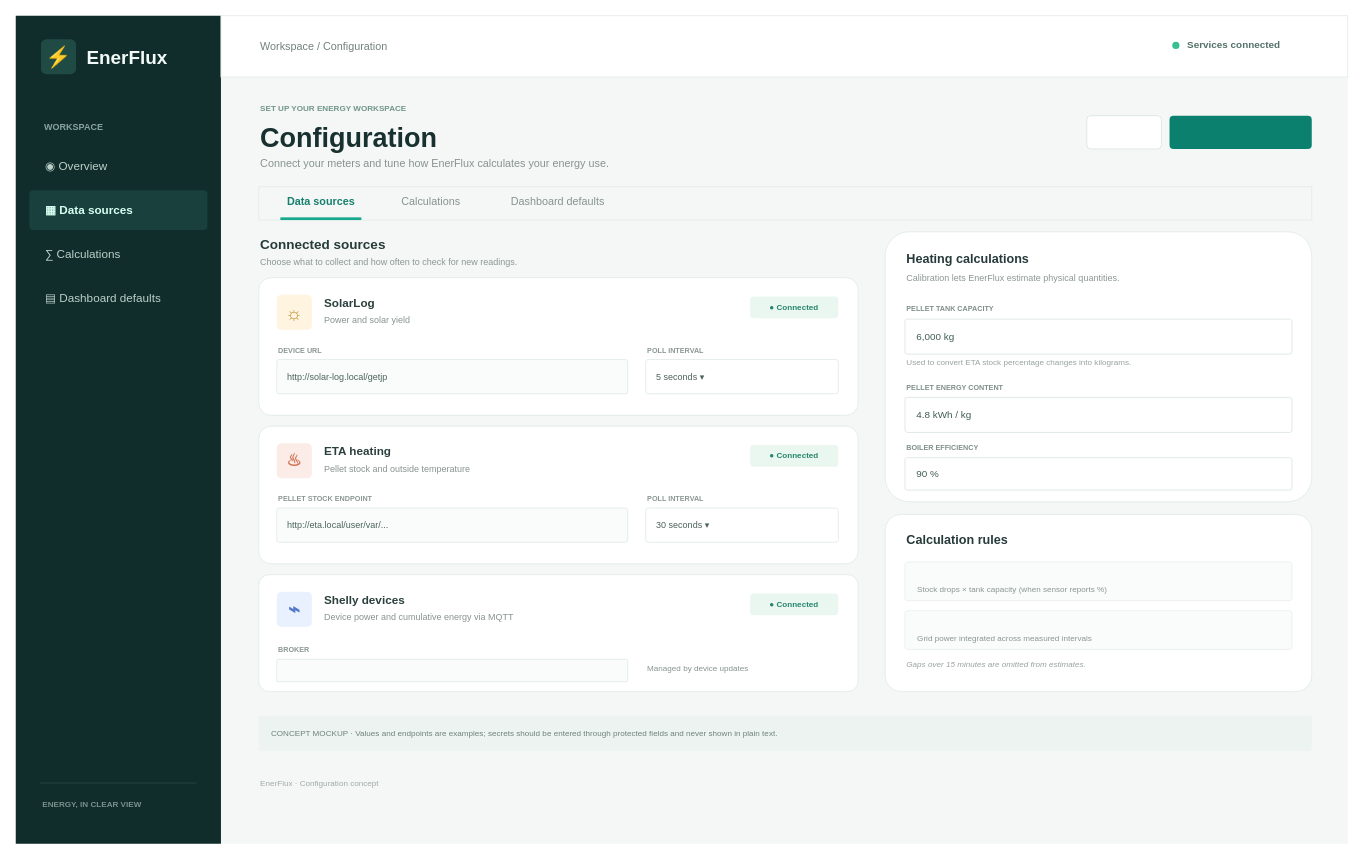
The diagram is 1364 pixels wide and 860 high, and some of its shapes have lost their labels. Each missing label, with the box of its shape:
Cancel: (1086, 115, 1161, 149)
ENERGY USED: (904, 610, 1292, 649)
mqtt://broker.local:1883: (276, 658, 628, 682)
PELLETS USED: (904, 561, 1292, 601)
✓ Save configuration: (1169, 115, 1311, 148)
